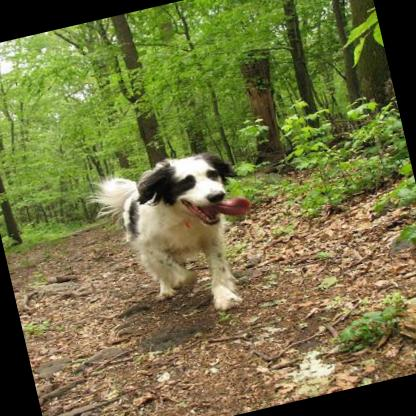English_setter: (83, 141, 273, 337)
